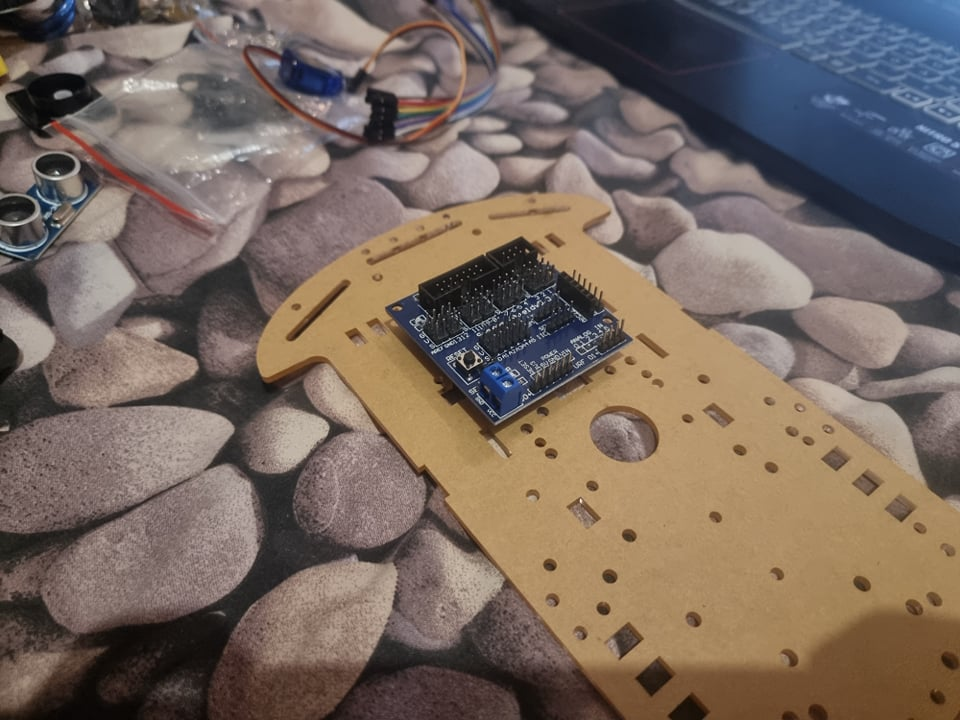5V EXPANSION: (386, 233, 633, 427)
SENSOR: (1, 154, 99, 264)
